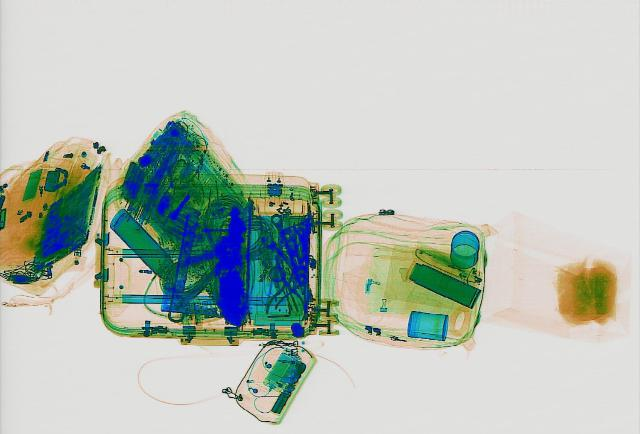Pliers: (264, 266, 306, 314)
